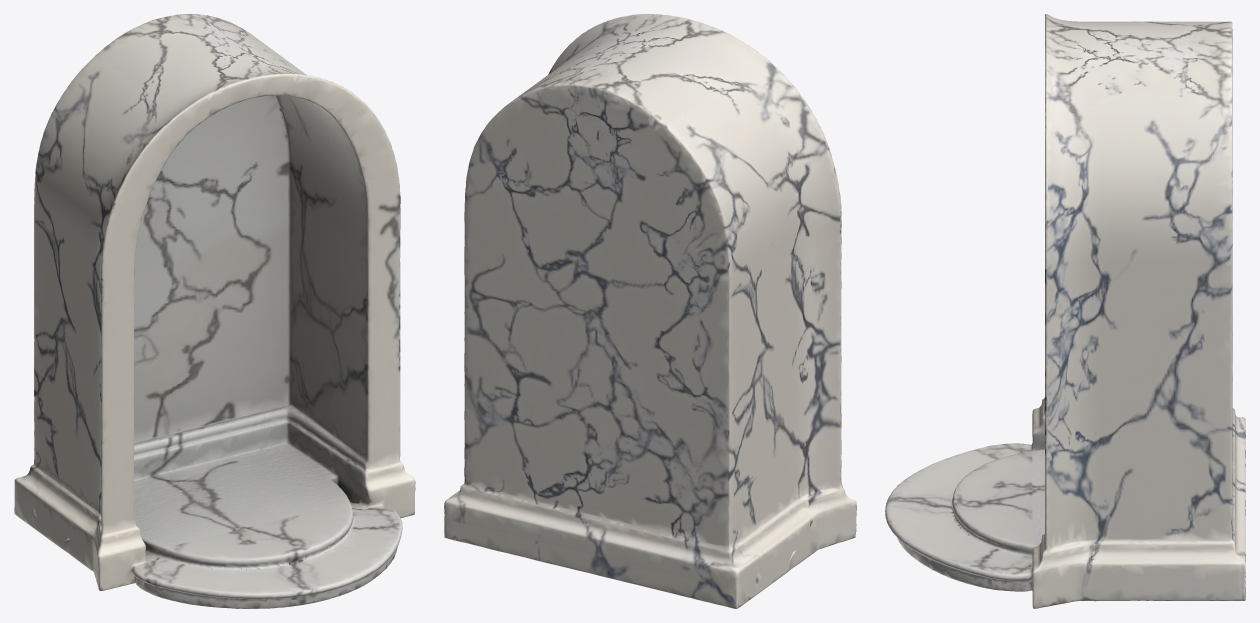
File: corner_arc.glb
The picture shows the model from 3 angles, left to right: view 1: azimuth 30°, elevation 25°; view 2: azimuth 150°, elevation 25°; view 3: azimuth 270°, elevation 25°; orthographic projection. The views are drawn at different scales.
Size of the model in its own units: 1.35 by 1.92 by 1.26.
1 material, 1 textured.
